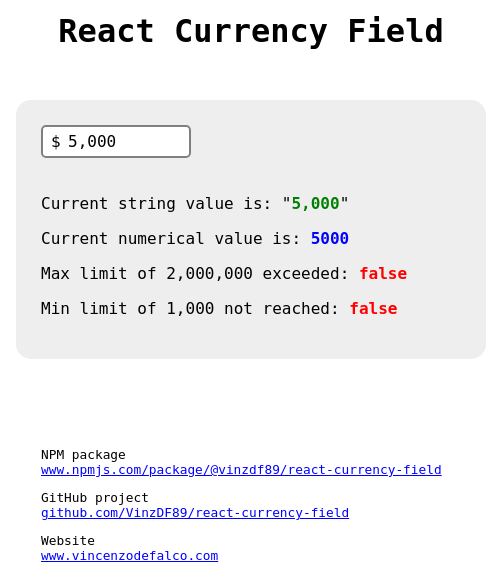
Test: Testing CurrencyField controlled by App › Thousand separator check: should change the value and match 1,234,000.12
Clear the field at (116,142), box [41,125,191,158]
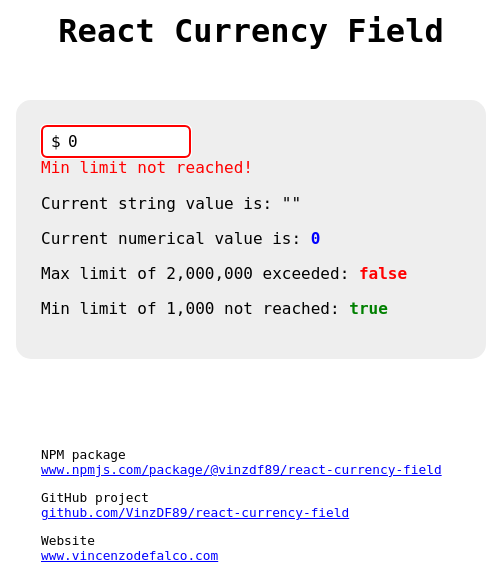
Type keys "1234000.12"
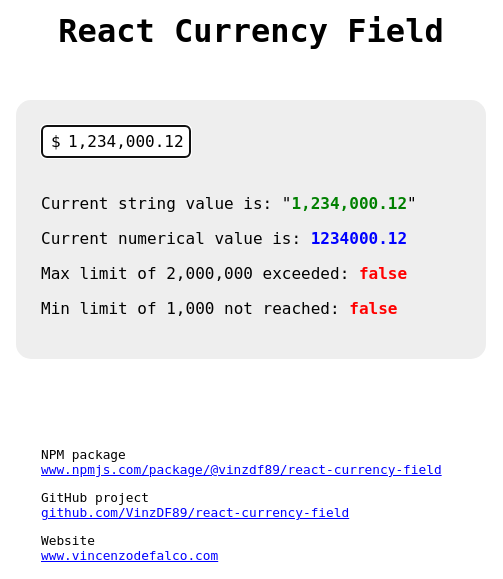
Expected: the field holds "1,234,000.12", [41,125,191,158]
